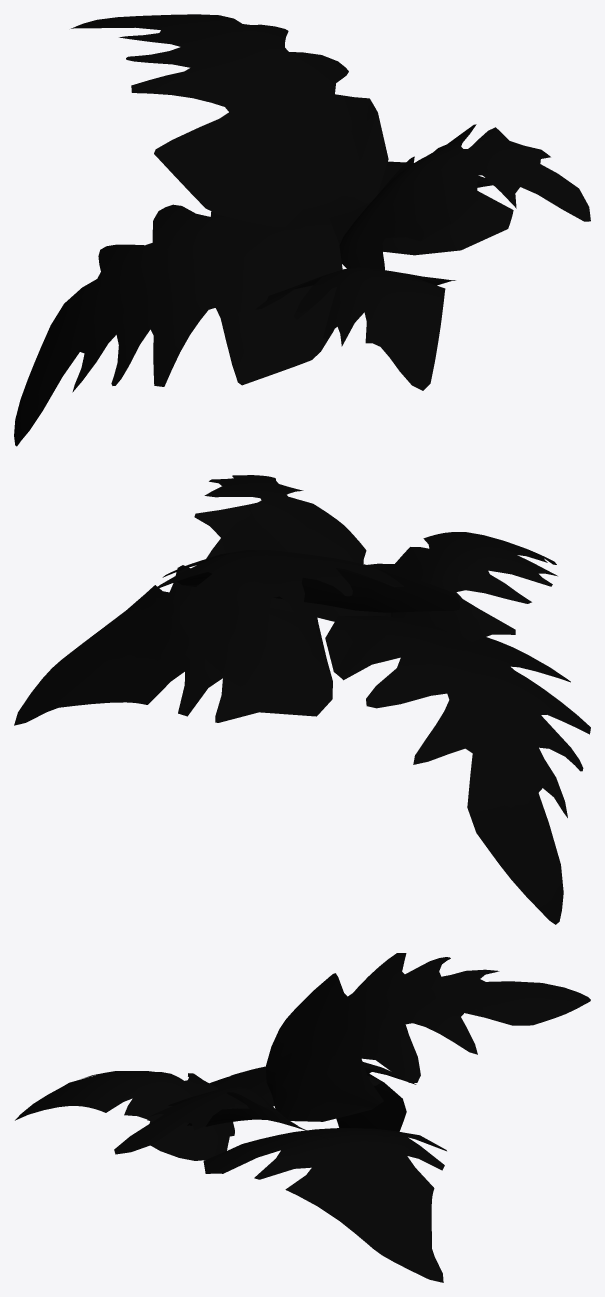
Rendered from Plant2.FBX.
3 views of the same model, one above another, from view 1: azimuth 30°, elevation 25°; view 2: azimuth 150°, elevation 25°; view 3: azimuth 270°, elevation 25° (orthographic). The views are drawn at different scales.
Parts seen in each view (by area): view 1: Object003; view 2: Object003; view 3: Object003.
Part boxes in pixels (x1,y1,x2,y2): Object003: [14, 14, 590, 446]; Object003: [14, 475, 590, 924]; Object003: [15, 953, 590, 1282].
Size of the model in its own units: 99.8 by 61.68 by 115.
1 material, 1 textured.
